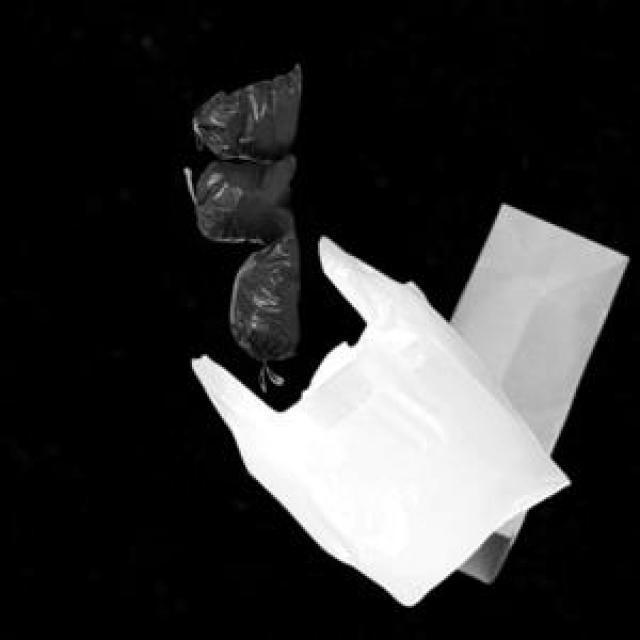miscellaneous trash: (190, 60, 297, 356)
paper: (446, 201, 623, 578)
